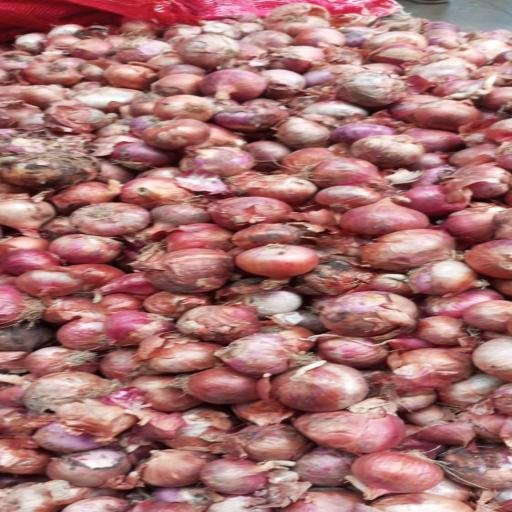damaged: (55, 455, 134, 486), (367, 141, 427, 166)
healthy: (246, 166, 384, 188), (307, 369, 361, 411), (367, 458, 433, 489), (62, 234, 122, 262), (76, 208, 141, 230), (254, 249, 306, 275), (364, 208, 410, 234), (166, 98, 222, 118), (28, 275, 81, 296), (218, 74, 262, 99), (428, 102, 466, 127), (415, 192, 459, 210)
rotten: (18, 156, 106, 185), (247, 166, 378, 185), (338, 298, 406, 334), (42, 377, 119, 407), (179, 150, 262, 175), (318, 420, 406, 443), (236, 337, 293, 371), (12, 124, 71, 156), (162, 258, 229, 286), (380, 238, 455, 262), (196, 312, 256, 340), (44, 427, 114, 450), (191, 39, 244, 68), (410, 358, 467, 384), (160, 341, 202, 371), (326, 261, 362, 293), (362, 76, 398, 108), (139, 130, 207, 143), (220, 110, 277, 124), (10, 328, 50, 347), (243, 231, 311, 241)
